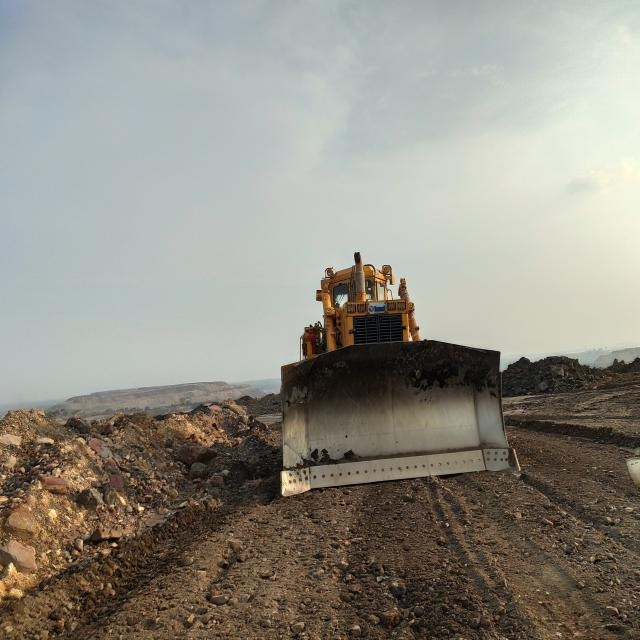buldozerpayloadergrader: (281, 252, 519, 495)
